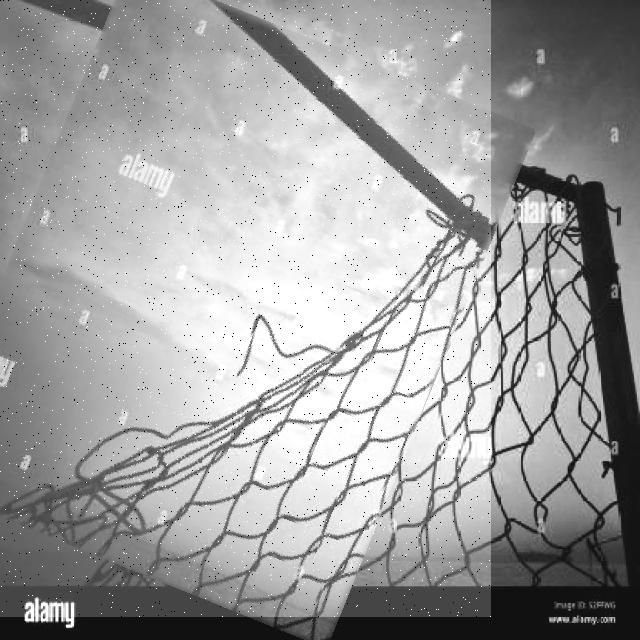anomaly-fence: (0, 0, 491, 617)
